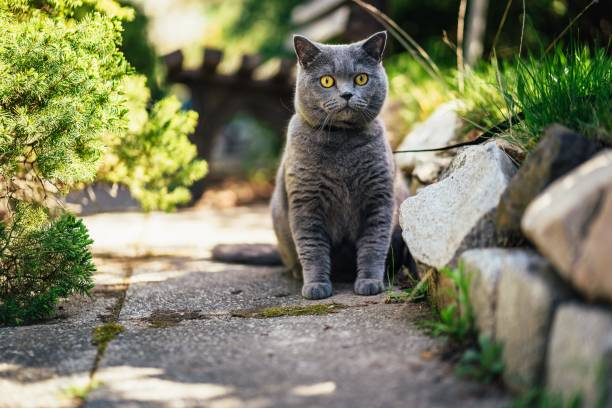cat: (211, 31, 400, 299)
